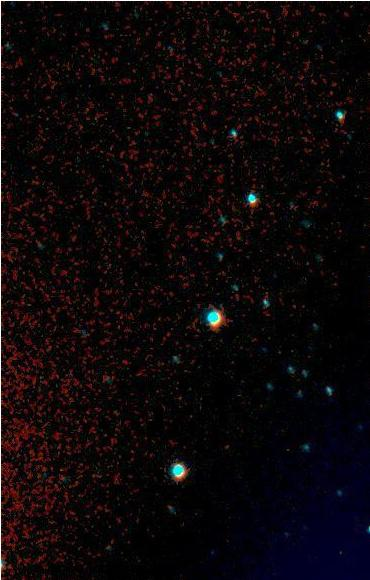star: (211, 432, 241, 462)
